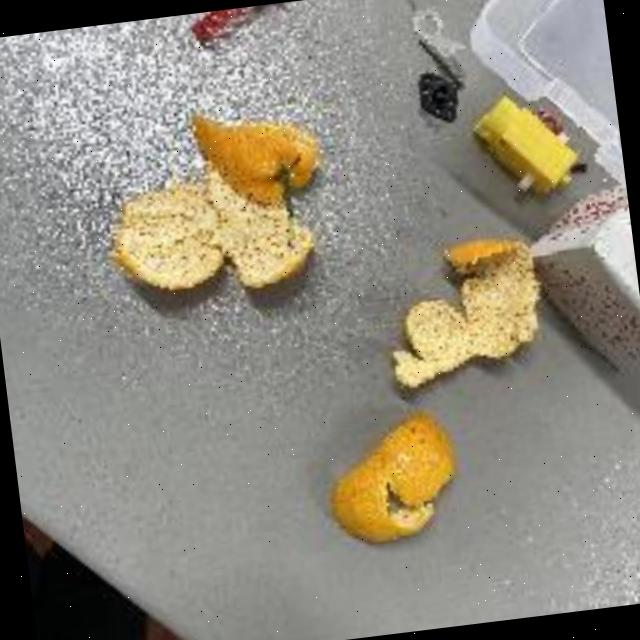orange-peel: (316, 402, 466, 550)
